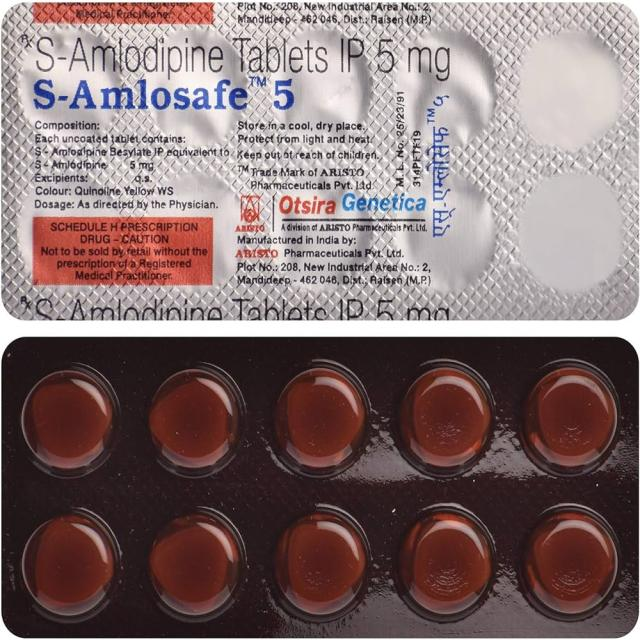Medicine-name: (33, 33, 458, 78)
